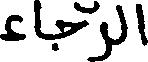X: (57, 0, 85, 54), (89, 0, 110, 61), (0, 10, 23, 45), (136, 0, 147, 50), (118, 0, 126, 49), (34, 0, 40, 42)
